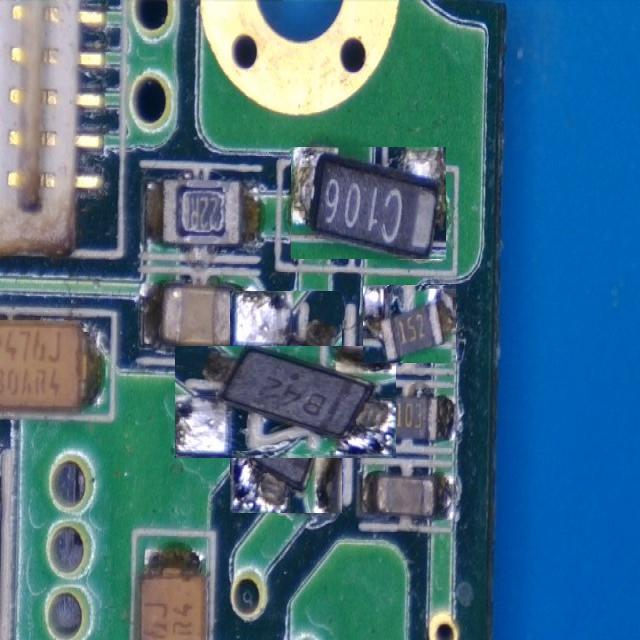Incorrect_installation: (176, 347, 396, 457), (290, 148, 446, 258), (364, 287, 454, 363)
